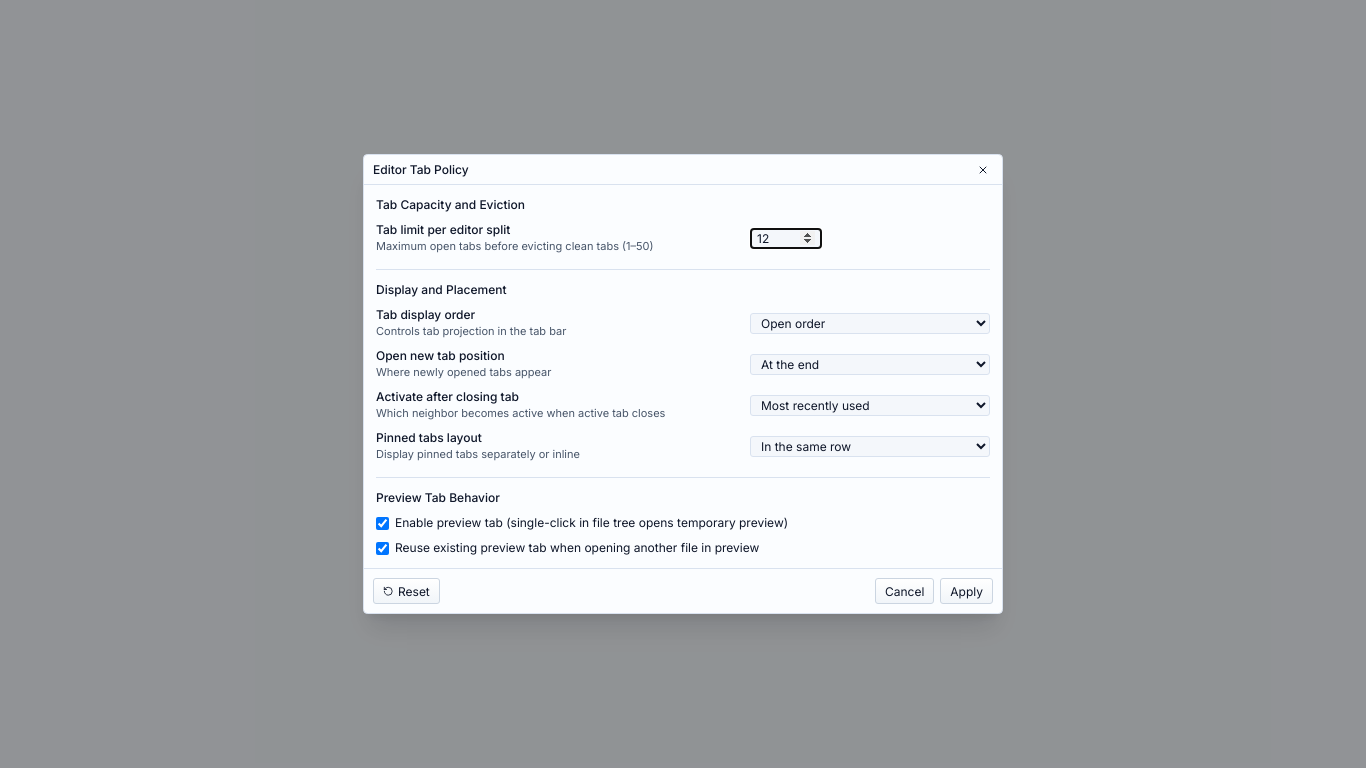
Scenario: WorkspaceTabPolicySettingsDialog › shows protected over-limit warning when all open tabs are pinned
Replace the text in the number field with test id "workspace-tab-policy-limit" with "1" at [786, 238], box [750,228,822,248]
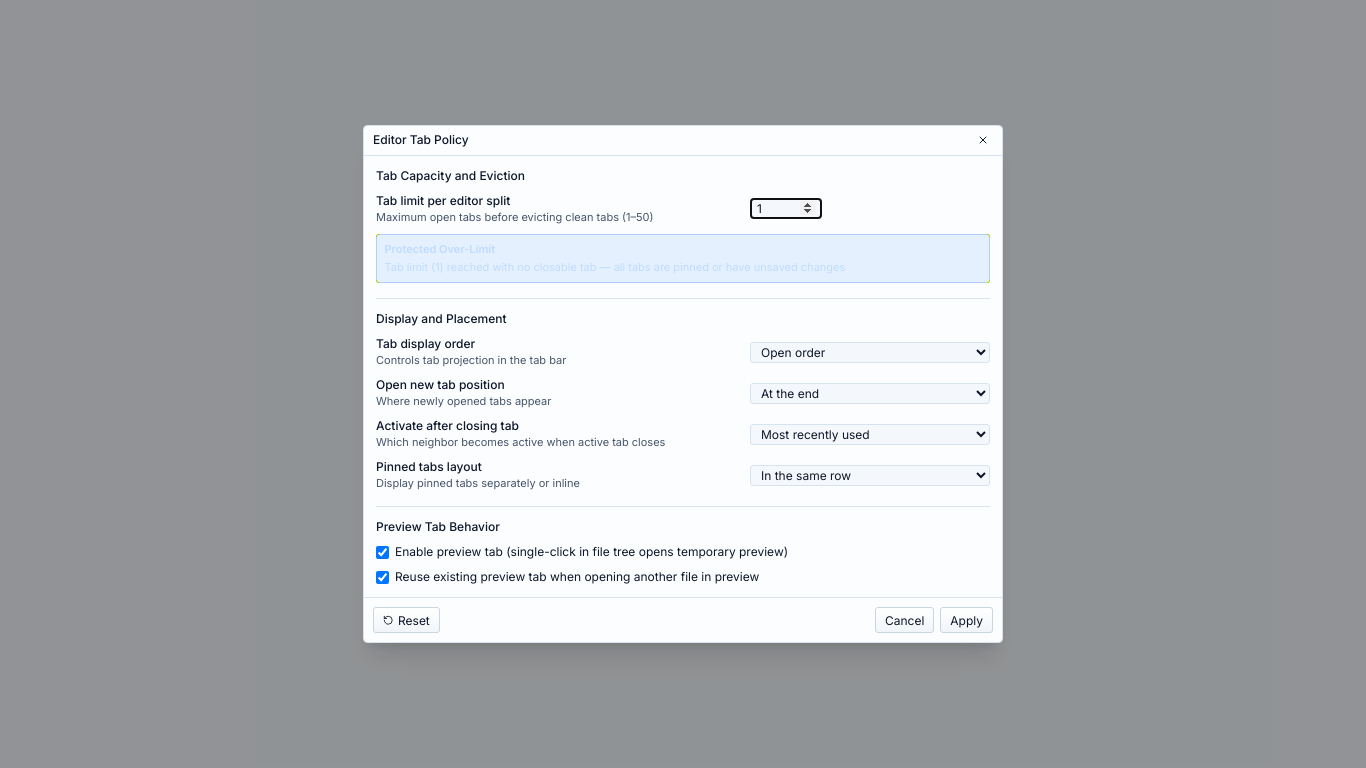
expect the element with test id "workspace-tab-policy-over-limit-warning" is shown: met, box [376,234,990,283]
expect the element with test id "workspace-tab-policy-over-limit-warning" shows "Tab limit (1) reached with no closable tab": met, box [384,260,845,274]
